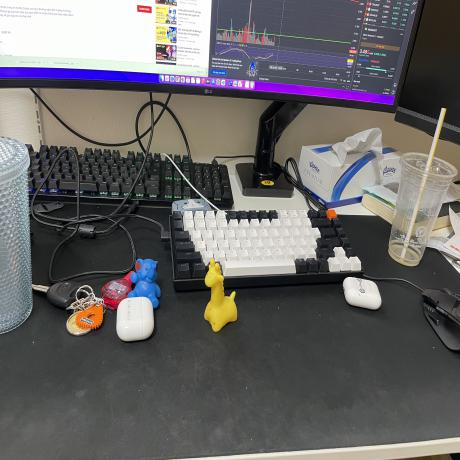airpod2: (340, 271, 386, 313)
airpod3: (114, 294, 159, 343)
